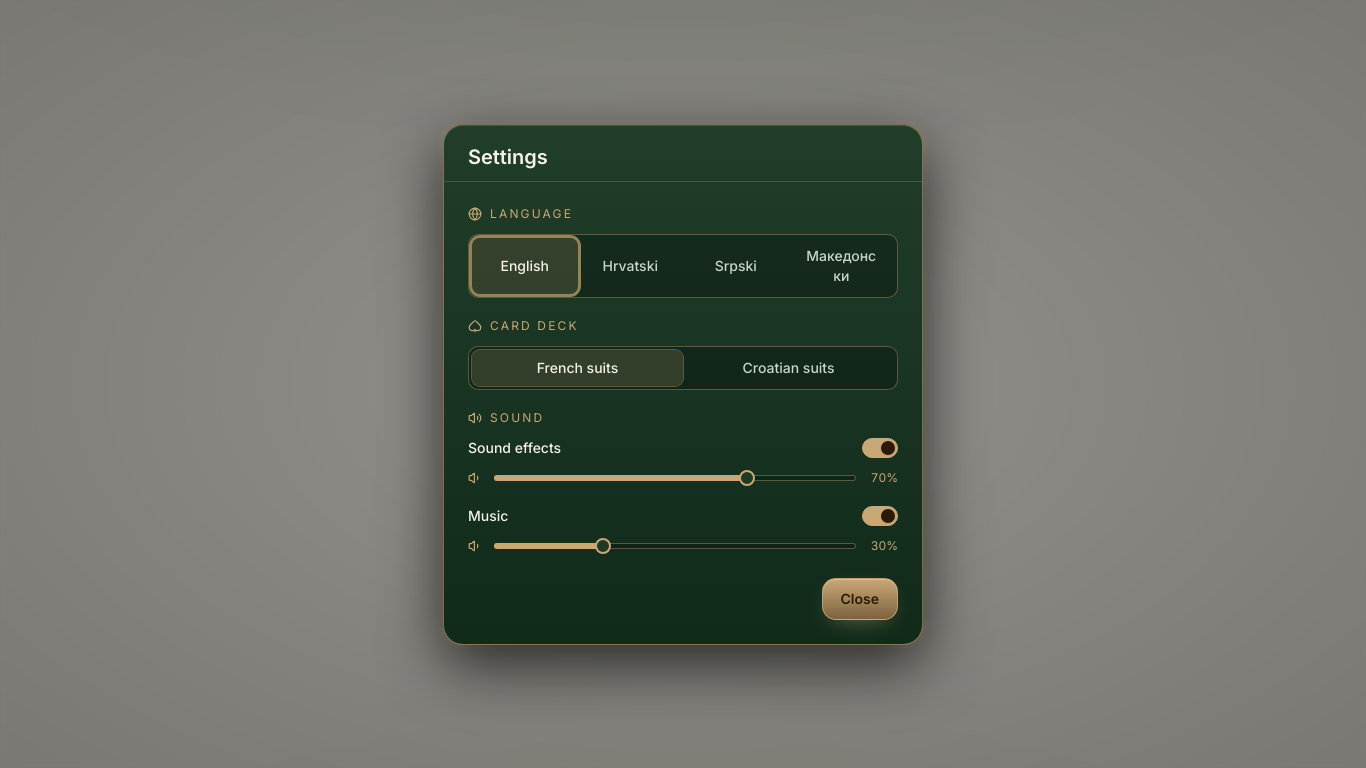
Test: SettingsDialog volume sliders › disables a slider while its switch is off, keeping the value for when it returns
What coordinates should you click on to do the following:
click the switch with test id "settings-music-toggle"
I would click on:
 (880, 516)
Its box is [862,506,898,526].
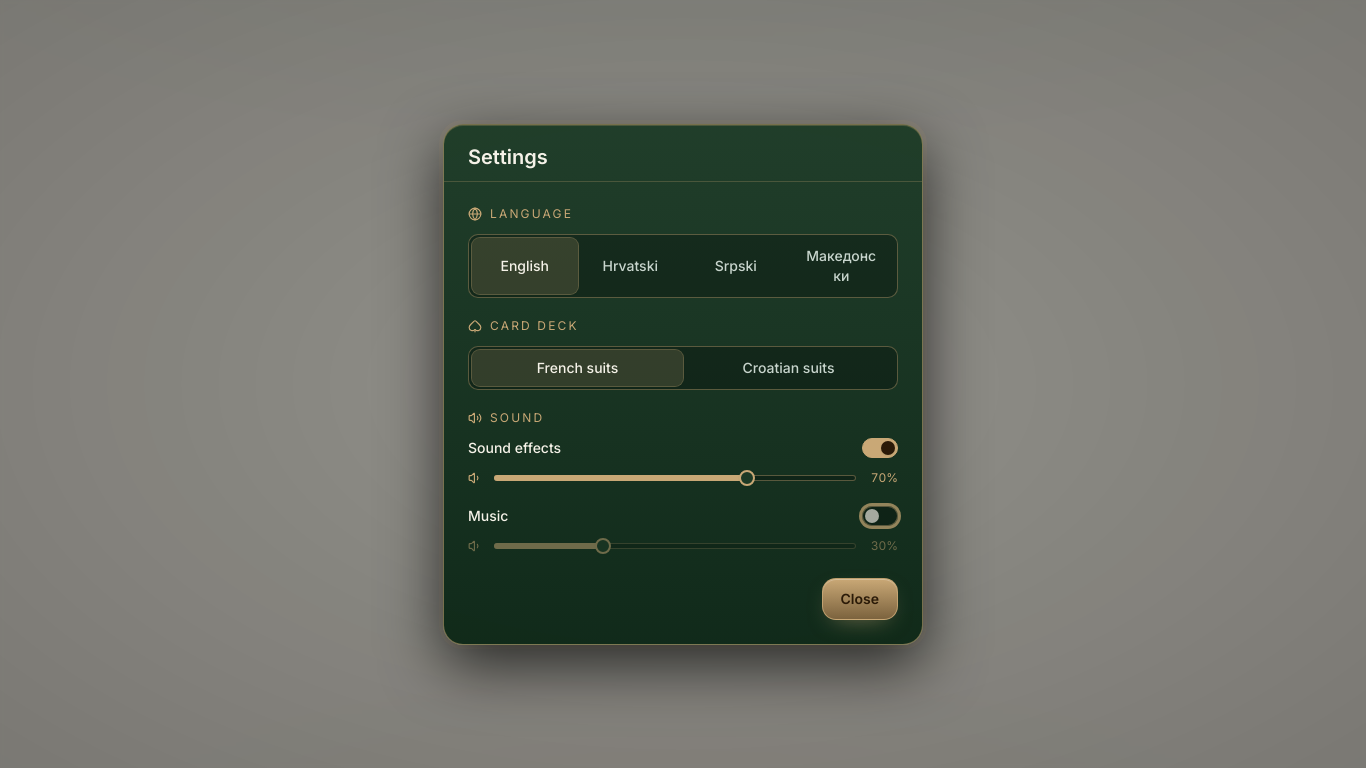
Expected: the element with test id "settings-music-volume" reads "30%", [468,534,898,558]
Expected: the slider named "Music volume" is disabled, [596,540,608,552]
What coordinates should you click on to do the following:
click the switch with test id "settings-music-toggle"
I would click on:
 (880, 516)
Its box is [862,506,898,526].
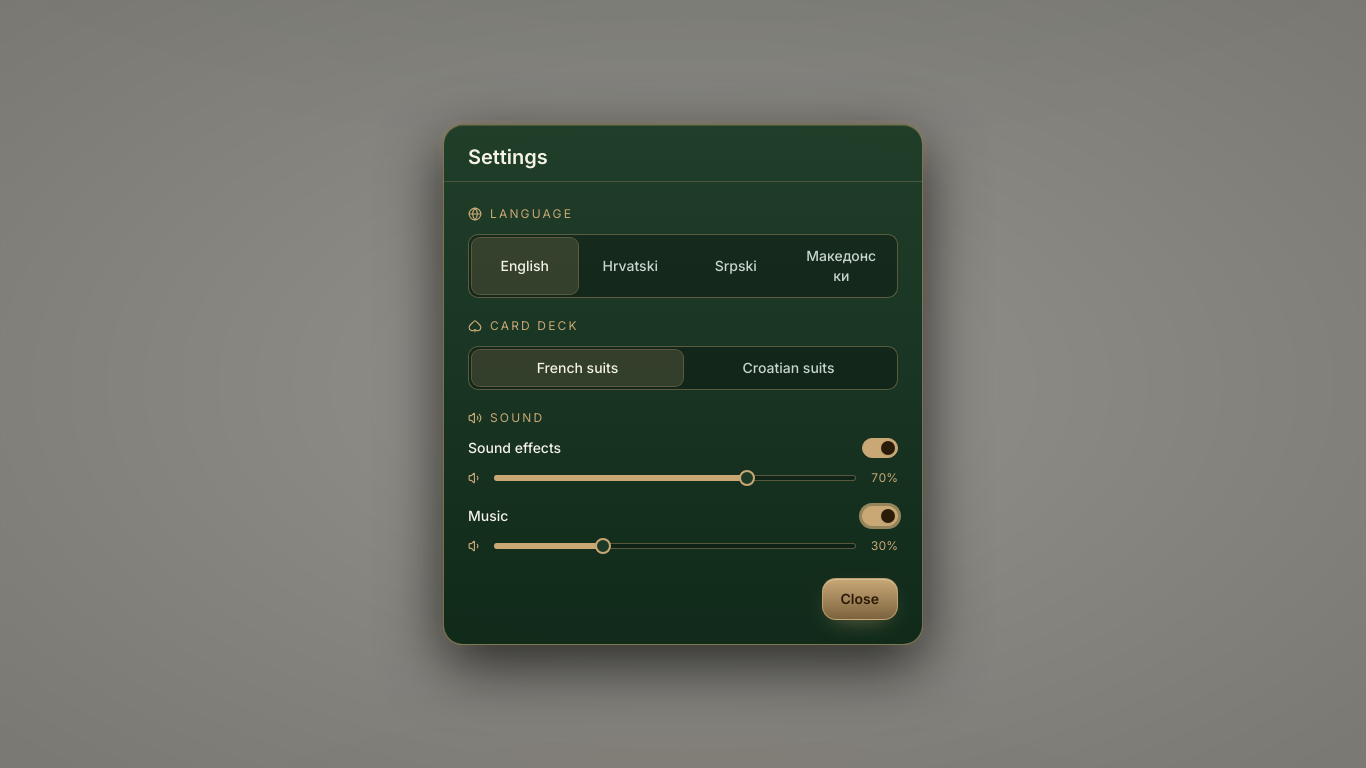
Expected: the slider named "Music volume" is enabled, [596,540,608,552]
